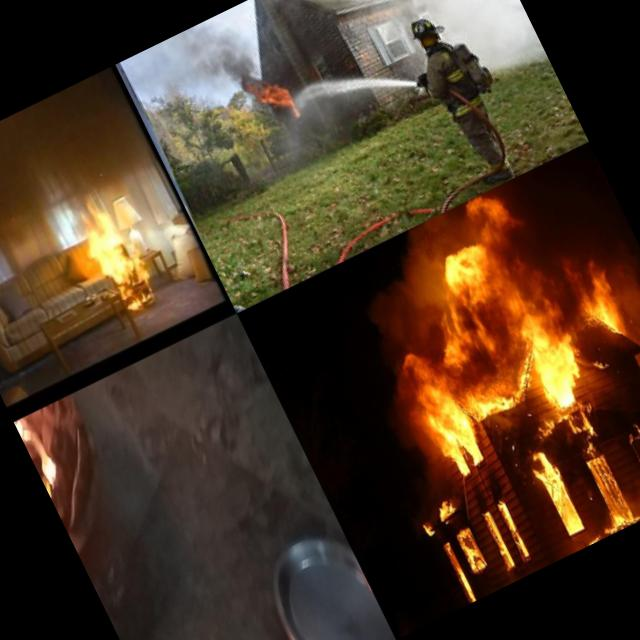fire: (356, 196, 640, 482), (520, 395, 640, 552), (416, 472, 543, 606), (64, 184, 164, 320), (246, 66, 303, 129)
smoke: (128, 7, 268, 132), (250, 0, 380, 44)
